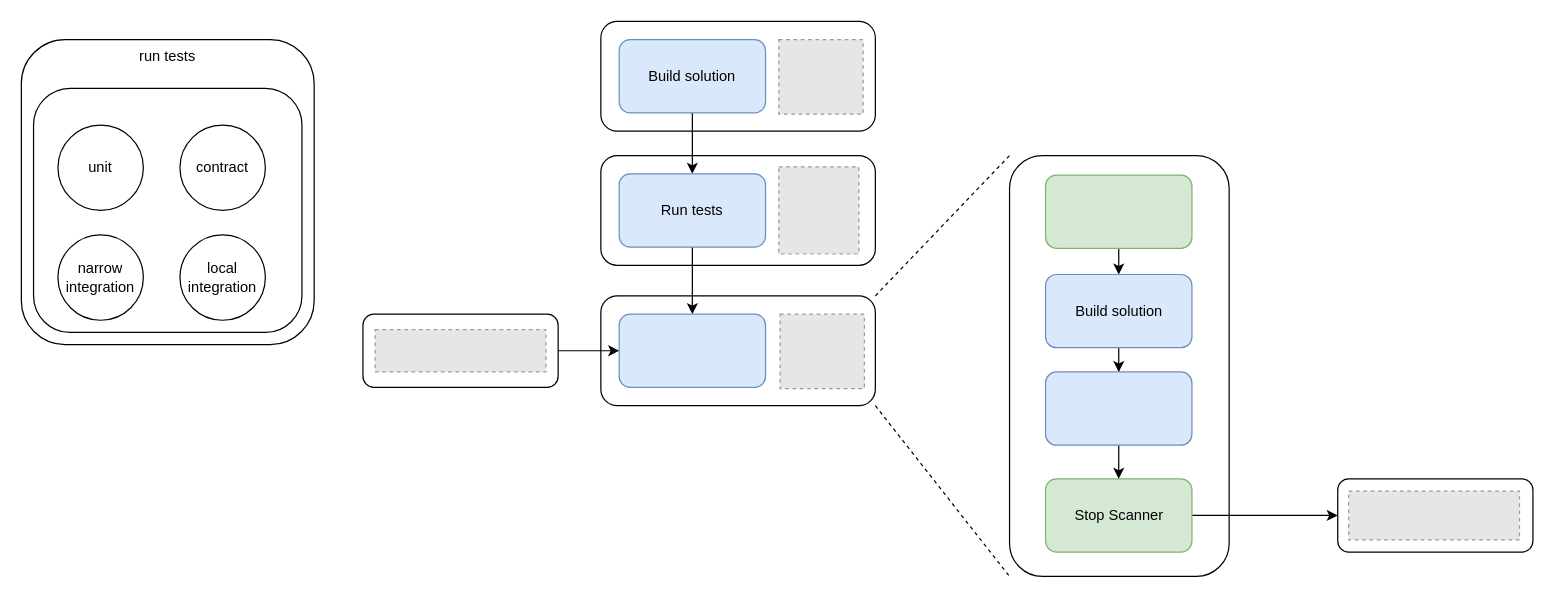
Some shapes in this 1554 by 599 pixel diagram are drawn without their labels. Grey dashed boxes stand in for pictures. Each missing label, with the box of its shape:
docker-compose: (32, 87, 302, 332)
Run tests (optional): (1044, 371, 1192, 445)
SonarCloud analysis: (618, 313, 766, 387)
Start SonarScanner: (1044, 174, 1192, 248)
